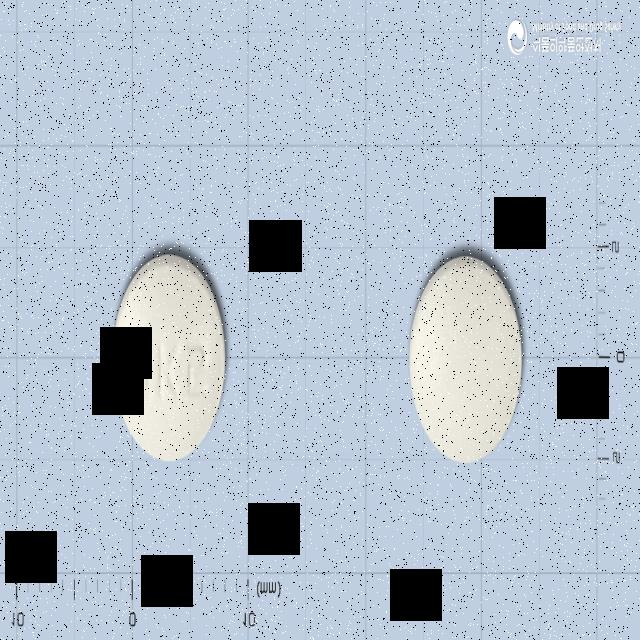Uniciprosacin Tab: (113, 253, 227, 465), (409, 254, 523, 466)
